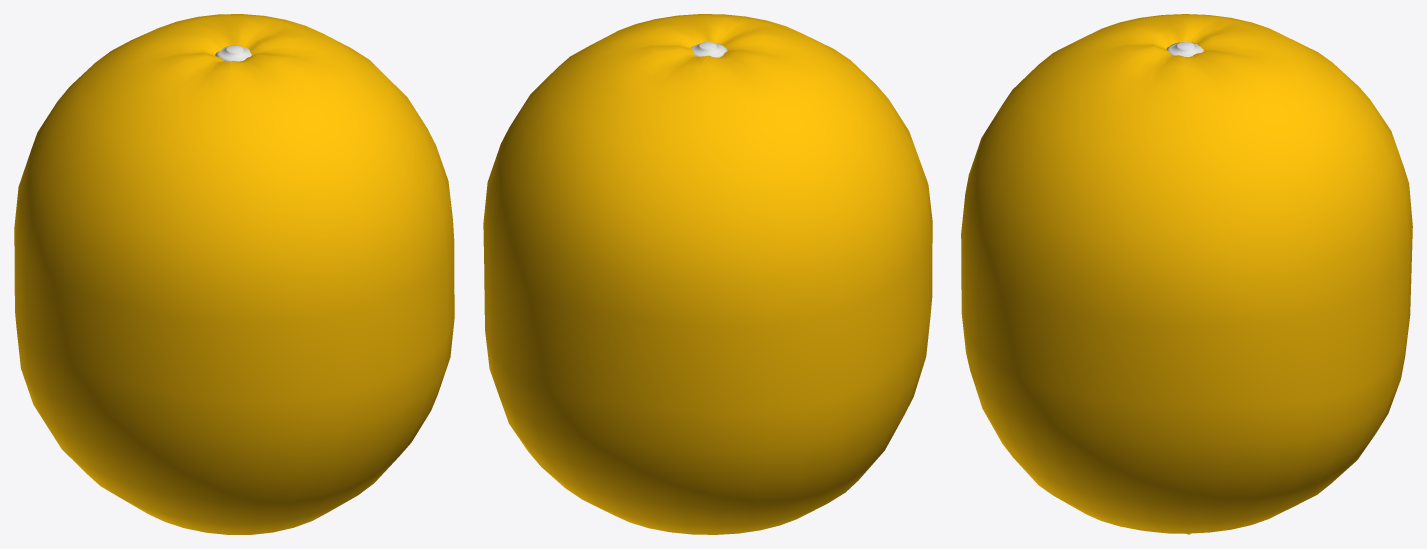
Rendered from lemon.fbx.
The picture shows the model from 3 angles, left to right: view 1: azimuth 30°, elevation 25°; view 2: azimuth 150°, elevation 25°; view 3: azimuth 270°, elevation 25°; orthographic projection. The views are drawn at different scales.
Parts seen in each view (by area): view 1: Lemon_Body; view 2: Lemon_Body; view 3: Lemon_Body.
Part boxes in pixels (x1=…): Lemon_Body: x1=14, y1=14, x2=454, y2=534; Lemon_Body: x1=483, y1=14, x2=932, y2=534; Lemon_Body: x1=961, y1=14, x2=1412, y2=534.
Bounding box in the file's own units: 201 × 242 × 202.
